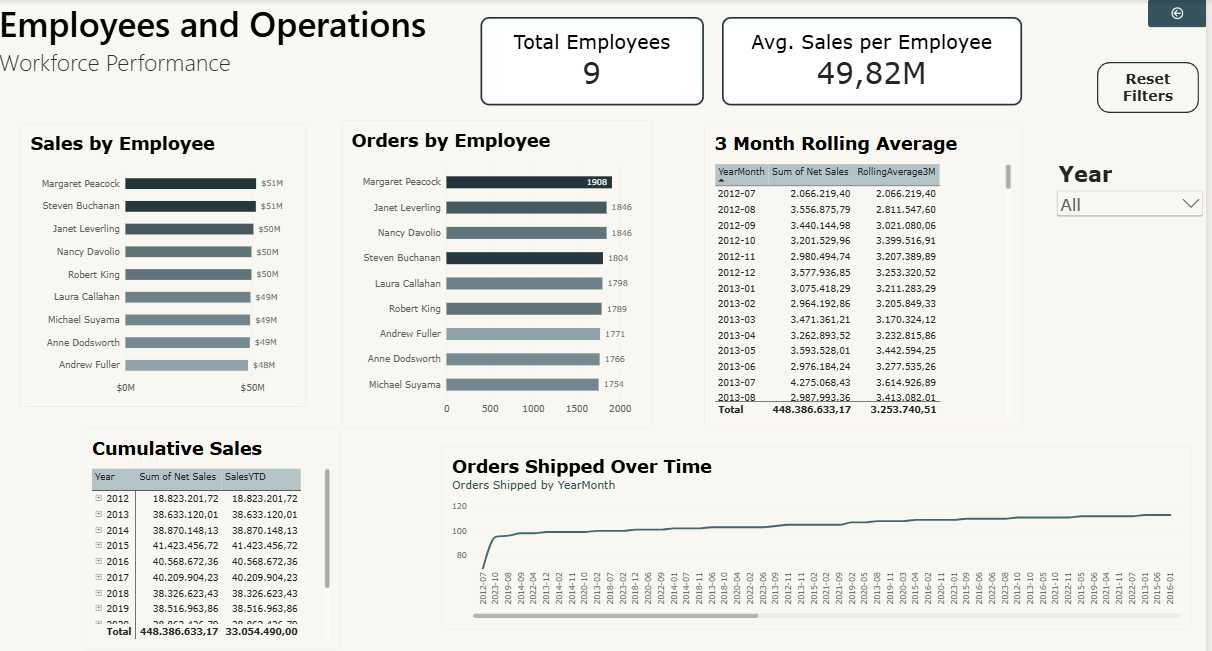

What the dashboard file says about the page in this screenshot:
{"tool":"powerbi","page":{"name":"Employees and Operations","canvas":[1920,1080],"ordinal":3},"visuals":[{"type":"barChart","title":"Sales by Employee","fields":{"Category":["DimEmployee.EmployeeName"],"Y":["ImportantMeasures.NetSales"]},"box":[33.4,198,455.7,450.9],"z":0},{"type":"barChart","title":"Orders by Employee","fields":{"Category":["DimEmployee.EmployeeName"],"Y":["ImportantMeasures.TotalOrders"]},"box":[544,193.3,496.3,489.1],"z":1000},{"type":"pivotTable","title":"Cumulative Sales","fields":{"Rows":["DimDate.Year Hierarchy.Year","DimDate.Year Hierarchy.Quarter","DimDate.Year Hierarchy.MonthName","DimDate.Year Hierarchy.Date"],"Values":["Sum(FactSales.Net Sales)","ImportantMeasures.SalesYTD"]},"box":[131.2,682.4,412.8,353.1],"z":2000},{"type":"tableEx","title":"3 Month Rolling Average","fields":{"Values":["DimDate.YearMonth","FactSales.Net Sales","ImportantMeasures.RollingAverage"]},"box":[1121.4,198,505.8,484.3],"z":3000},{"type":"lineChart","title":"Orders Shipped Over Time","fields":{"Category":["DimDate.YearMonth"],"Y":["ImportantMeasures.OrdersShipped"]},"box":[703.8,711,1193,291.1],"z":4000},{"type":"slicer","fields":{"Values":["DimDate.Year"]},"box":[1677.3,257.7,242.5,125],"z":5000},{"type":"actionButton","box":[1827.6,0,93.1,45.3],"z":6000},{"type":"textbox","box":[0,0,916.2,126.5],"z":7000},{"type":"cardVisual","fields":{"Data":["ImportantMeasures.# Employees"]},"box":[765.9,28.6,355.5,140.8],"z":8000},{"type":"cardVisual","fields":{"Data":["ImportantMeasures.Avg. Sales per Employee"]},"box":[1150,28.6,477.2,140.8],"z":9000},{"type":"actionButton","title":"Reset Filters","box":[1746.5,100.2,162.2,81.1],"z":10000}]}

Visuals, with their boxes on the page's 1920x1080 design canvas (x1, y1, x2, y2). These are canvas units, not pixel positions in the 1212x651 screenshot, which may show the page scaled, cropped or inside an application window:
"Sales by Employee" barChart: rect(33, 198, 489, 649)
"Orders by Employee" barChart: rect(544, 193, 1040, 682)
"Cumulative Sales" pivotTable: rect(131, 682, 544, 1036)
"3 Month Rolling Average" tableEx: rect(1121, 198, 1627, 682)
"Orders Shipped Over Time" lineChart: rect(704, 711, 1897, 1002)
slicer - DimDate.Year: rect(1677, 258, 1920, 383)
actionButton: rect(1828, 0, 1921, 45)
textbox: rect(0, 0, 916, 126)
cardVisual - ImportantMeasures.# Employees: rect(766, 29, 1121, 169)
cardVisual - ImportantMeasures.Avg. Sales per Employee: rect(1150, 29, 1627, 169)
"Reset Filters" actionButton: rect(1746, 100, 1909, 181)
